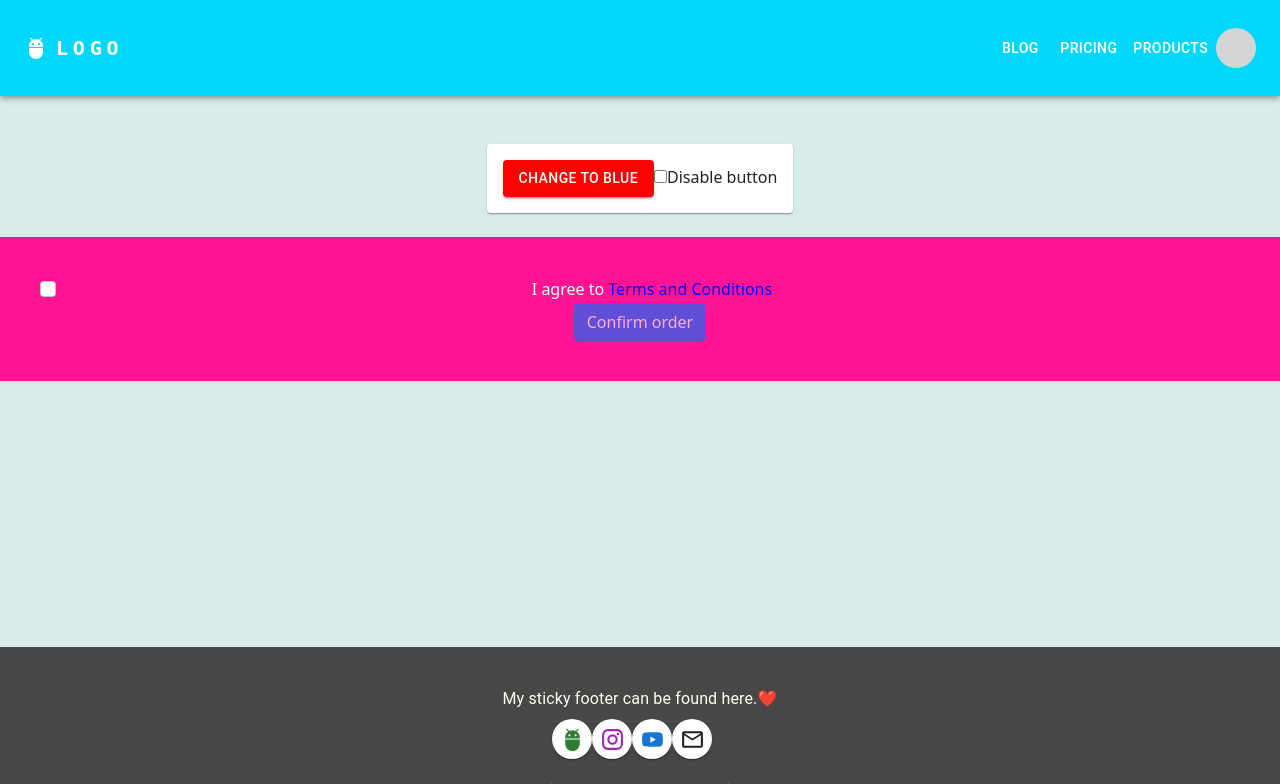
Test: Checkbox disables button on first click and enables on second click
Click the checkbox labelled "Disable button".
click(660, 176)  # box x1=654 y1=170 x2=667 y2=182
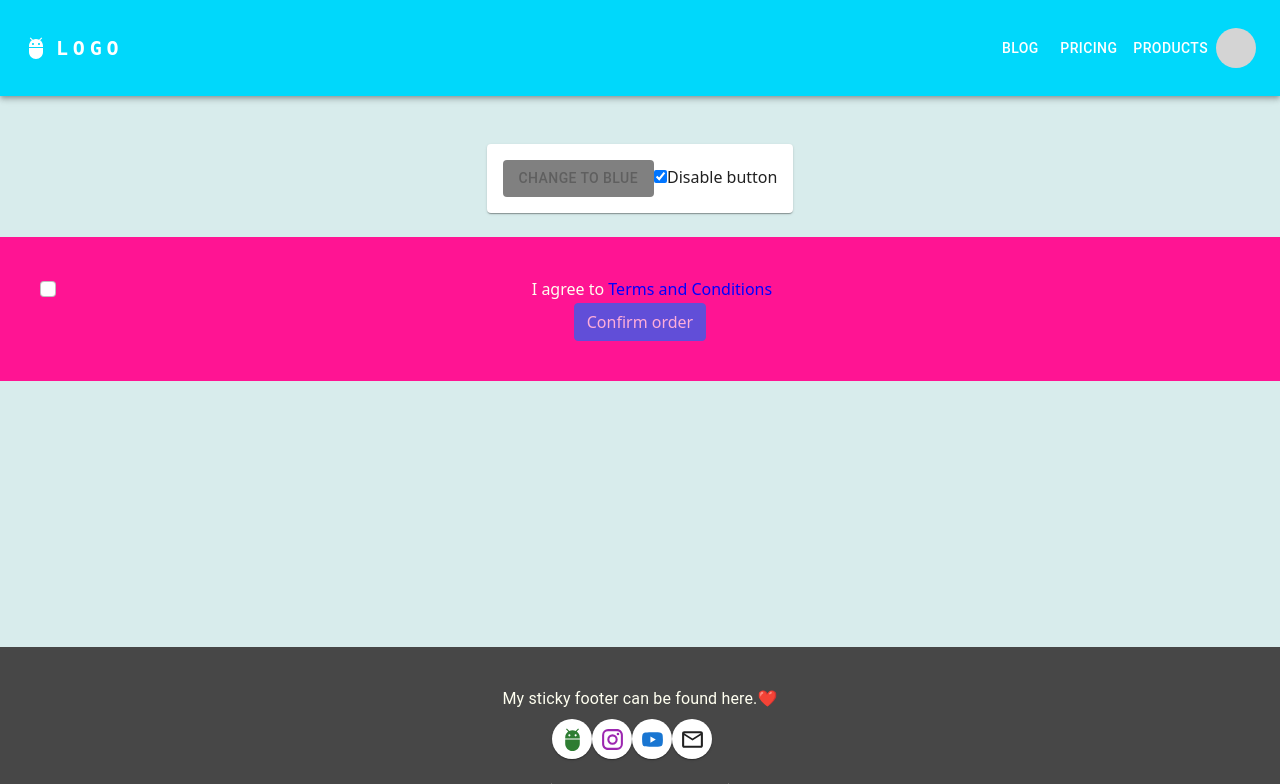
Check: the button "Change to blue" is disabled, box x1=503 y1=160 x2=654 y2=196
Click the checkbox labelled "Disable button".
click(660, 176)  # box x1=654 y1=170 x2=667 y2=182
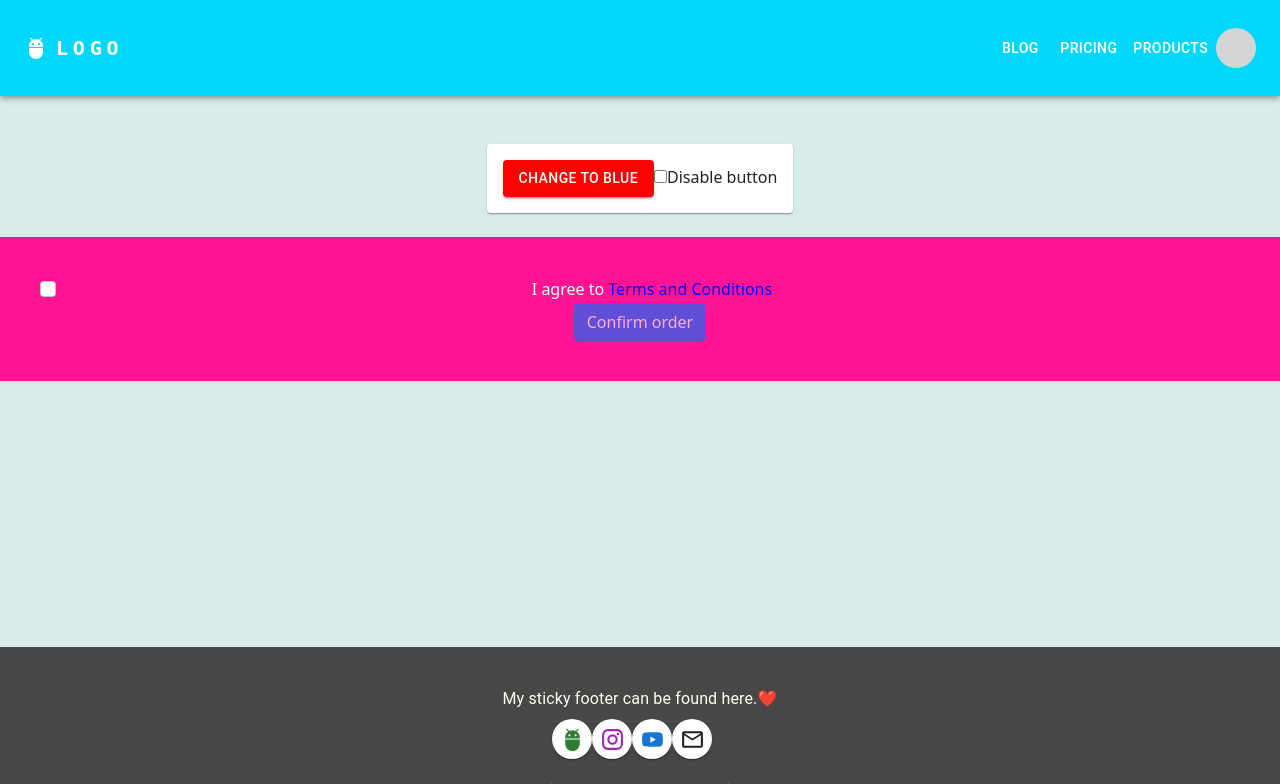
Check: the button "Change to blue" is enabled, box x1=503 y1=160 x2=654 y2=196
